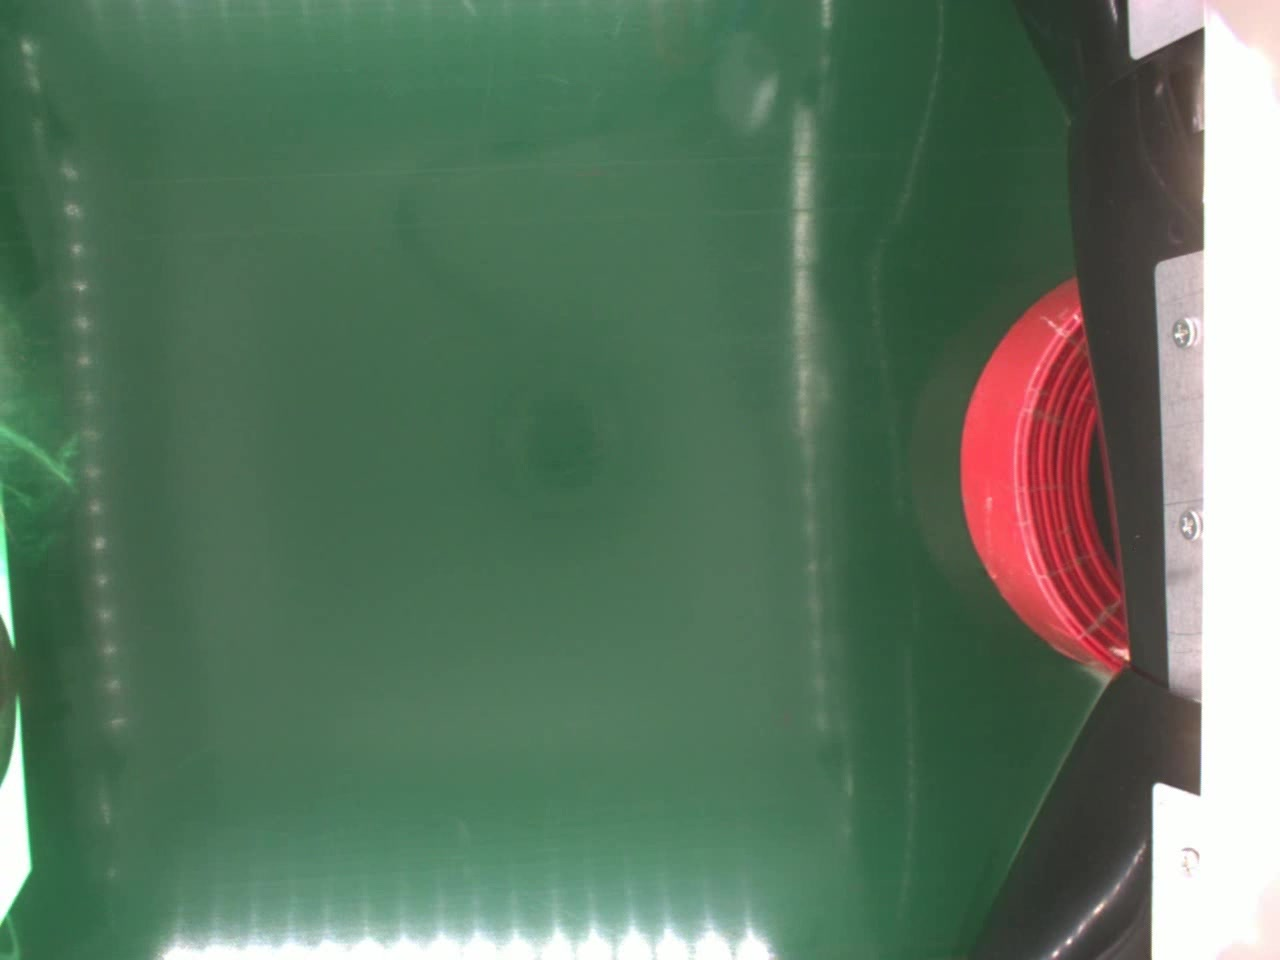red: (963, 271, 1134, 667)
